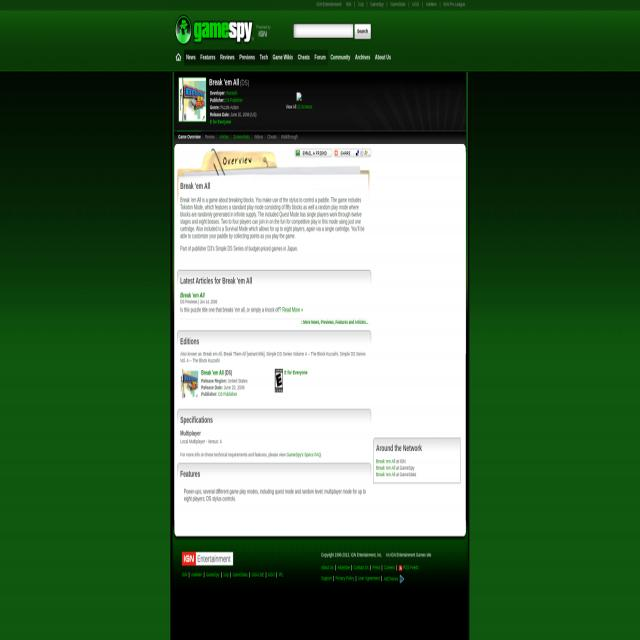button: (178, 78, 206, 121), (182, 551, 233, 566), (180, 369, 198, 398), (295, 148, 333, 158), (334, 148, 372, 158), (354, 23, 371, 40), (270, 51, 296, 62), (328, 52, 353, 63), (198, 51, 218, 62), (237, 51, 257, 62), (353, 51, 373, 62), (373, 51, 393, 62), (218, 51, 237, 62), (275, 369, 283, 393), (296, 51, 312, 62), (312, 51, 328, 62), (184, 51, 198, 62), (258, 51, 270, 62), (173, 51, 184, 63), (296, 92, 302, 101), (400, 574, 404, 584)
field: (293, 23, 353, 39)
